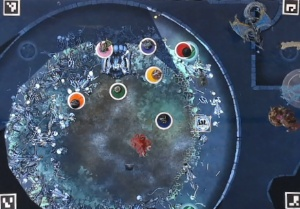blue: (152, 108, 181, 133)
green: (105, 80, 127, 101)
orange: (66, 90, 85, 111)
pink: (94, 40, 115, 59)
red: (173, 40, 193, 59)
violet: (138, 36, 157, 54)
yellow: (141, 64, 168, 85)
